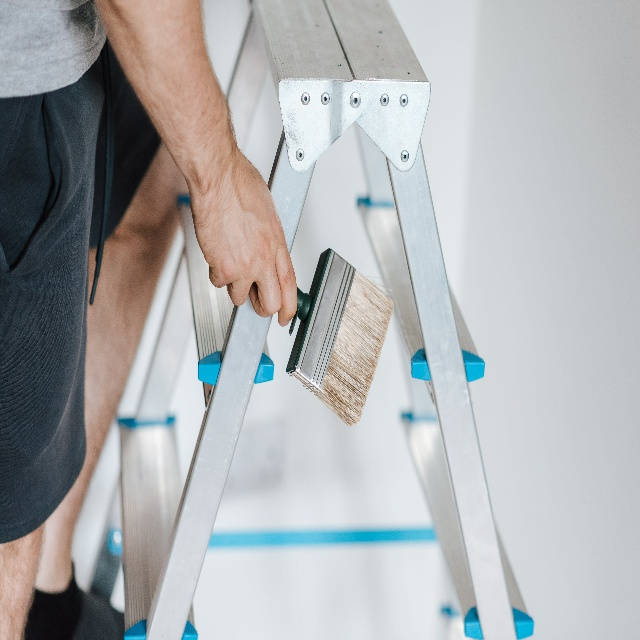Sin_guantes: (186, 153, 298, 329)
